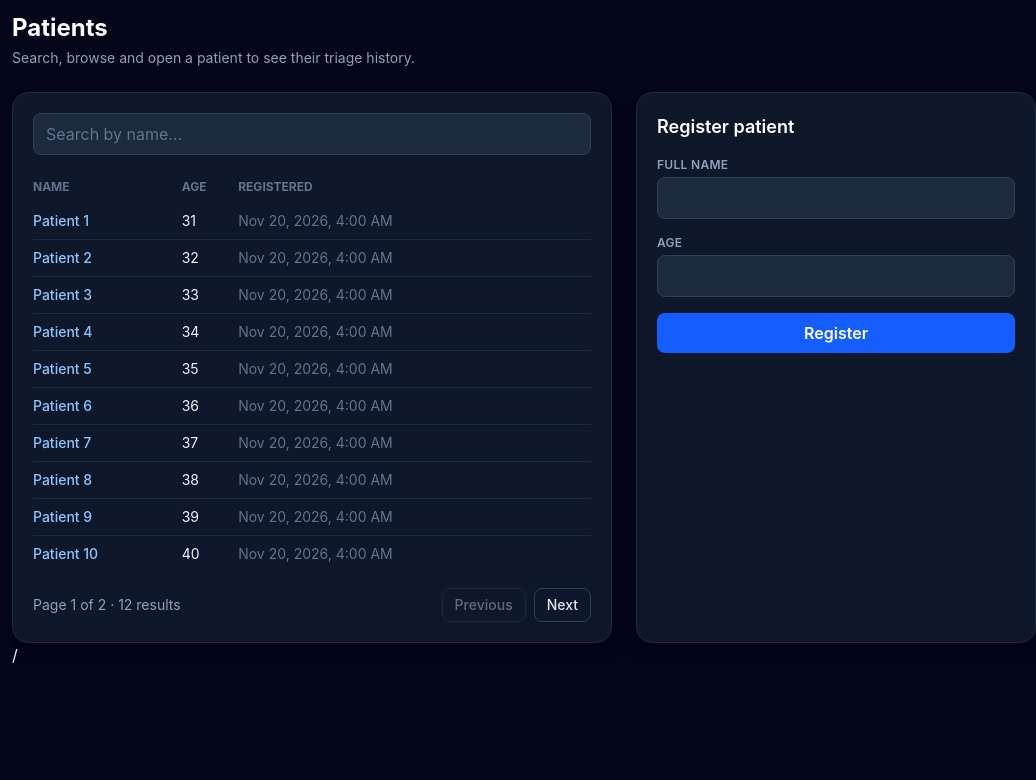
Test: PatientsPage › validates and registers a new patient
This screenshot has width=1036, height=780.
Click the button "Register" at (836, 333), box [657,313,1015,353]
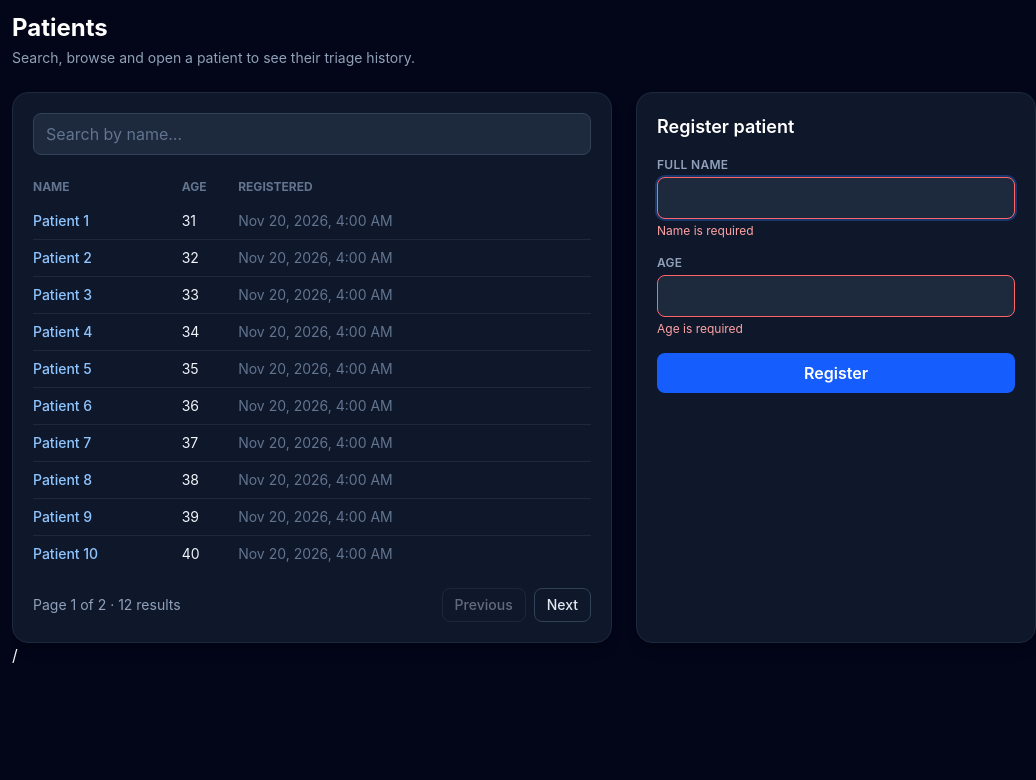
Now the text "Name is required" is shown, box [657,223,754,238]
Type "Ana Test" into the field labelled "Full name" at (836, 198), box [657,177,1015,219]
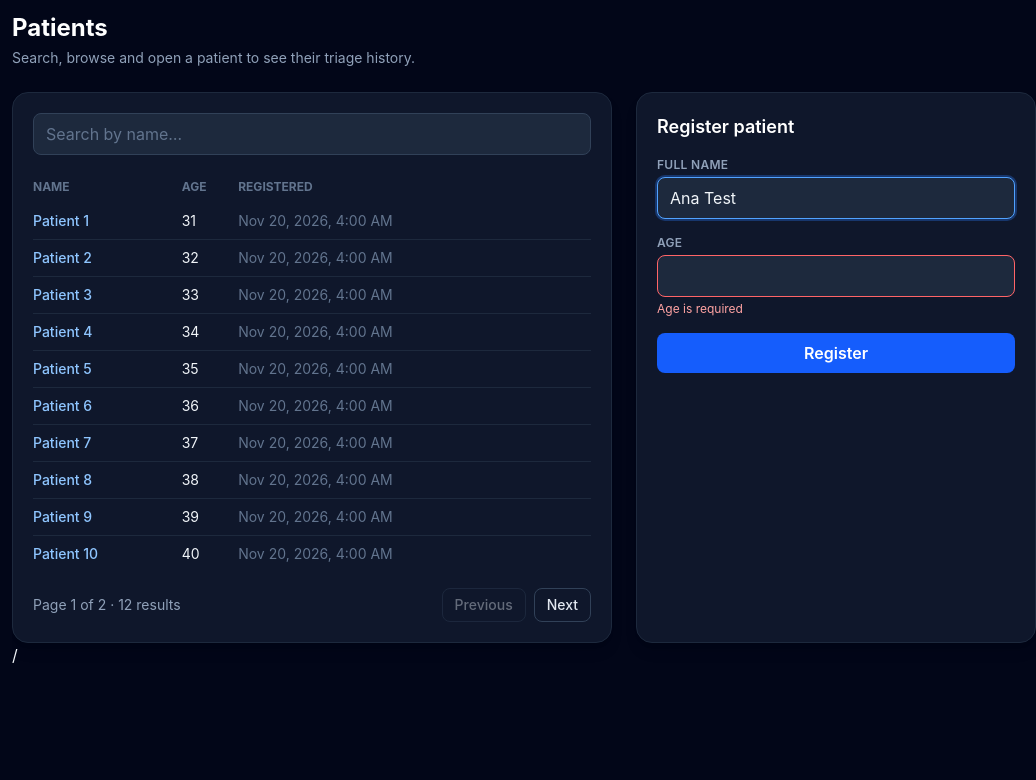
Type "41" into the number field labelled "Age" at (836, 276), box [657,255,1015,297]
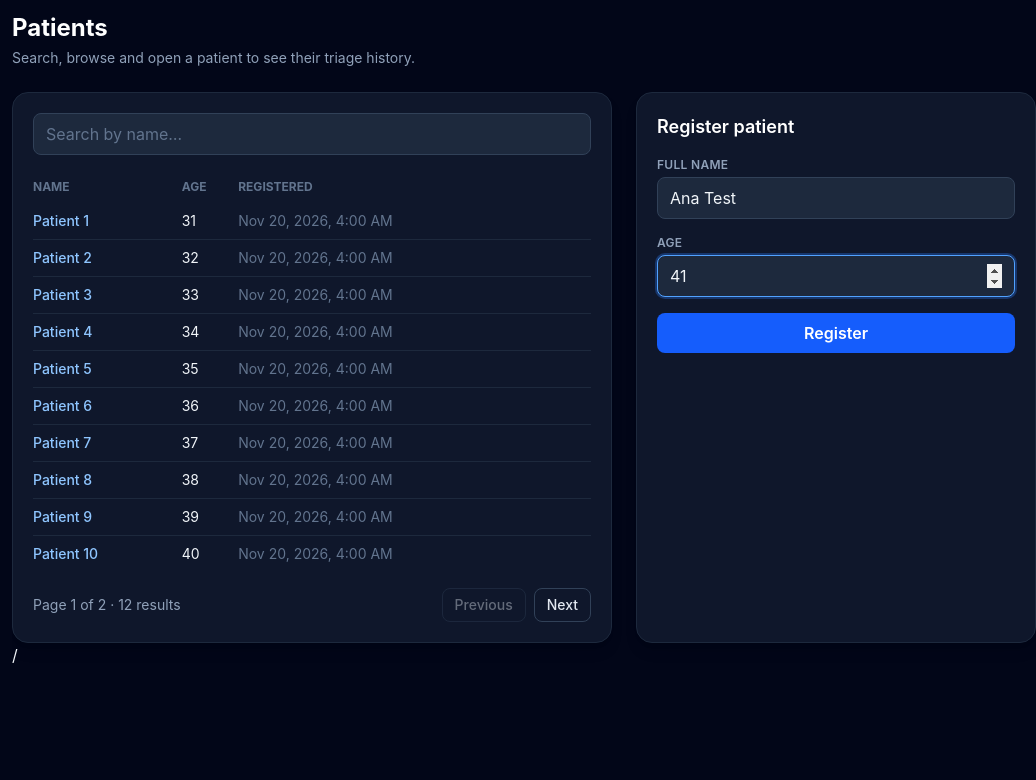
Click the button "Register" at (836, 333), box [657,313,1015,353]
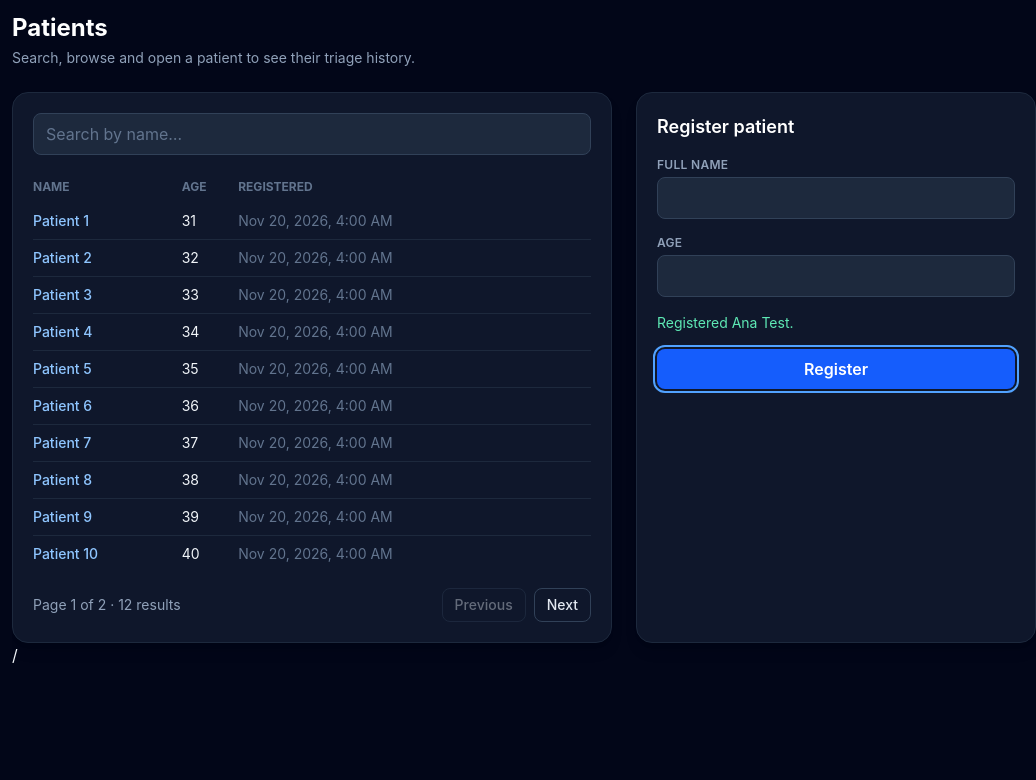
Now the text "Registered Ana Test." is shown, box [657,314,794,331]
